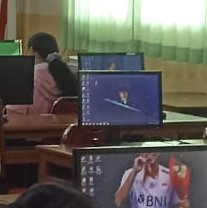monitor: (72, 143, 207, 206), (76, 70, 163, 130), (0, 55, 35, 106), (78, 52, 144, 71), (0, 39, 23, 56)
